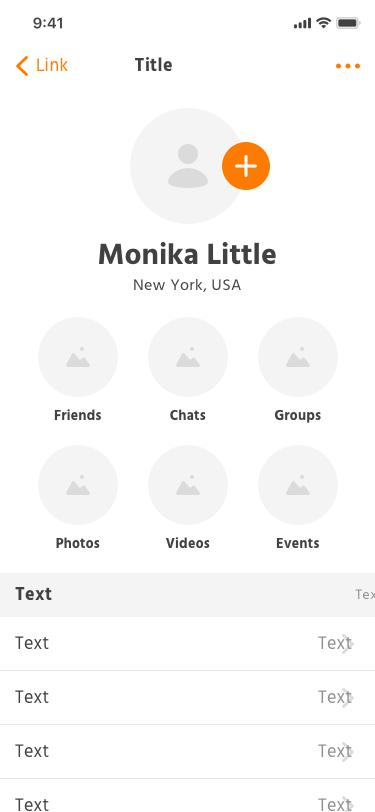Icon: (131, 109, 240, 225), (222, 142, 271, 190), (17, 56, 30, 77), (335, 64, 361, 70)
Image: (39, 445, 119, 526), (148, 445, 229, 525), (258, 444, 338, 524), (148, 317, 228, 396), (39, 316, 118, 396), (259, 317, 338, 396)
Text: (100, 242, 277, 266), (134, 278, 243, 293), (275, 410, 322, 424), (56, 536, 102, 549), (54, 409, 103, 421), (135, 57, 174, 72), (166, 537, 211, 549), (317, 635, 353, 650), (16, 689, 51, 704), (317, 689, 352, 704), (318, 743, 353, 758), (318, 797, 353, 812), (15, 587, 54, 600), (15, 798, 51, 812), (37, 58, 70, 73), (16, 636, 51, 650), (15, 744, 50, 758), (276, 538, 320, 549), (170, 409, 207, 421)
UpperTaskBar: (33, 16, 362, 31)
